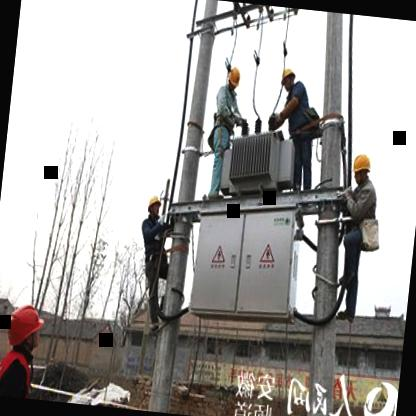helmet: (1, 297, 50, 358), (350, 152, 374, 188), (145, 190, 164, 221), (279, 64, 297, 93), (226, 63, 242, 90)
